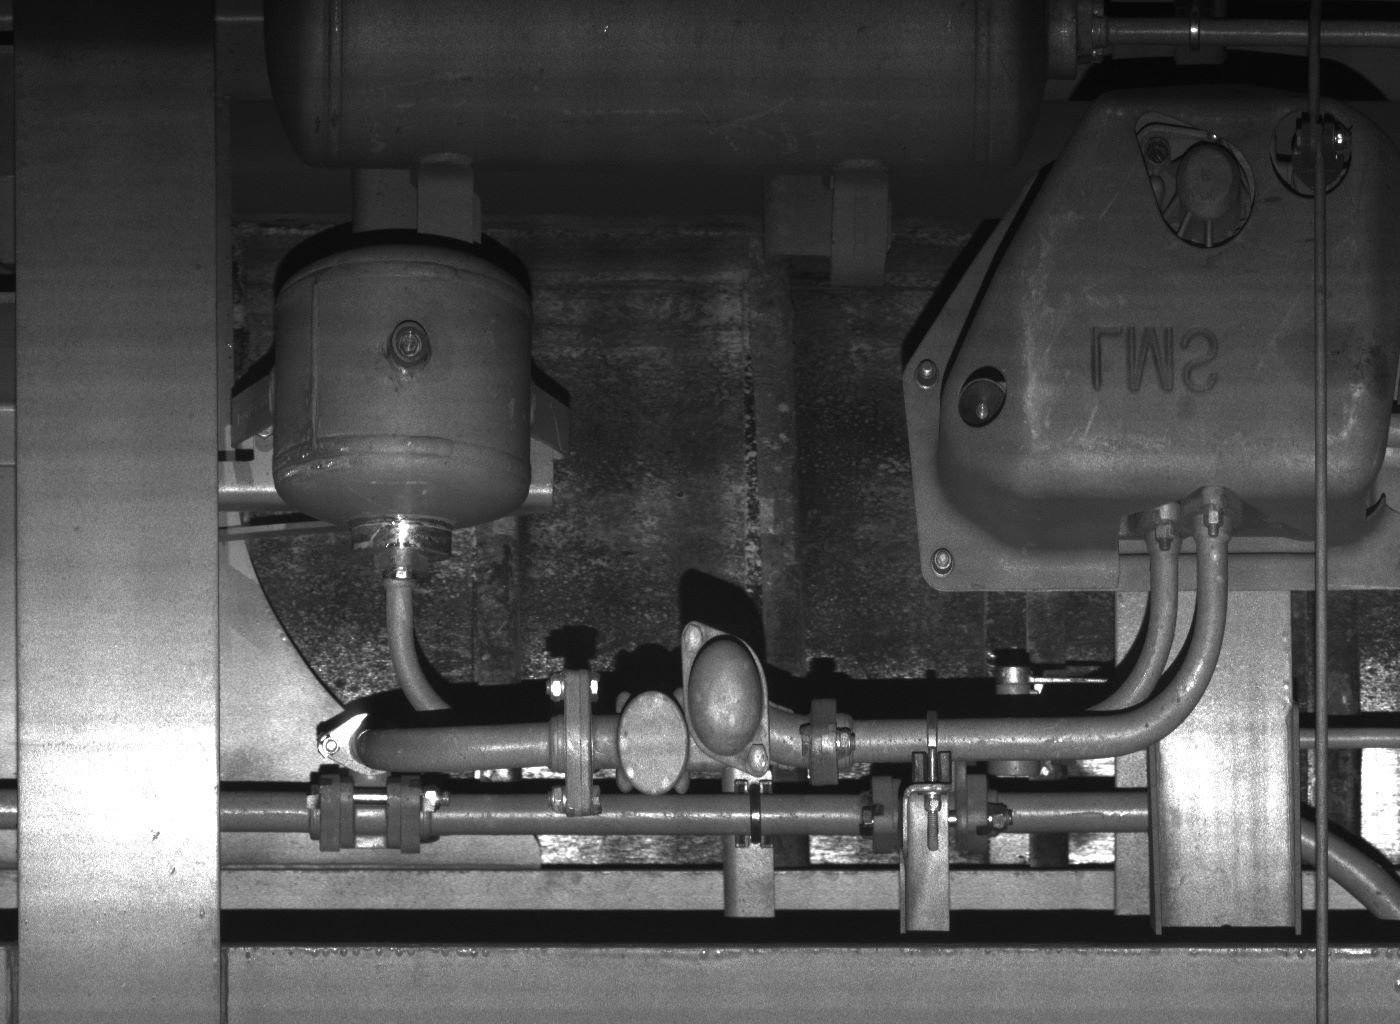normal: (616, 687, 692, 794)
